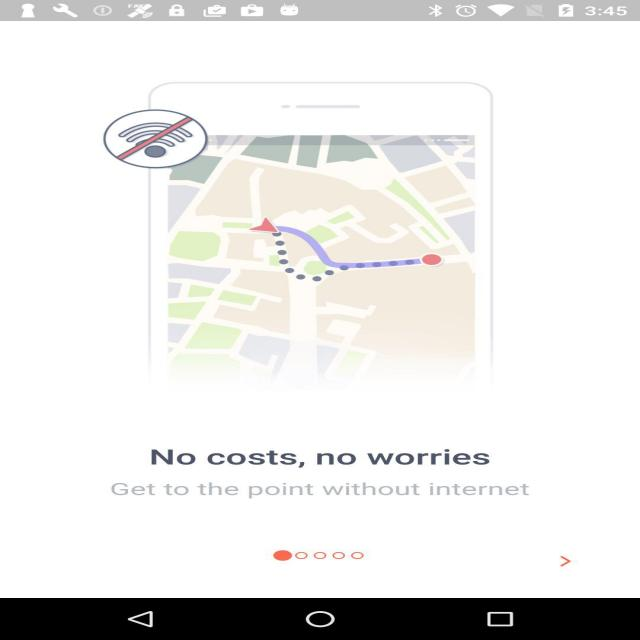button: (525, 544, 606, 578)
icon: (252, 537, 399, 577)
image: (83, 69, 516, 424)
text: (70, 436, 563, 508)
